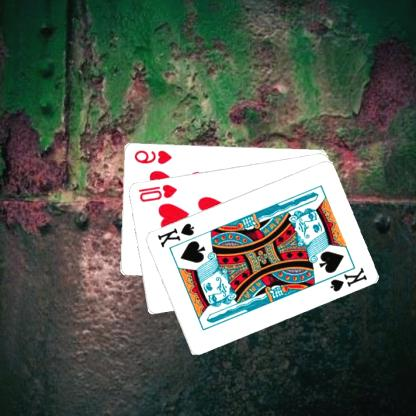10H: (138, 181, 180, 203)
9H: (133, 147, 175, 165)
KS: (322, 263, 370, 293), (156, 221, 197, 249)
